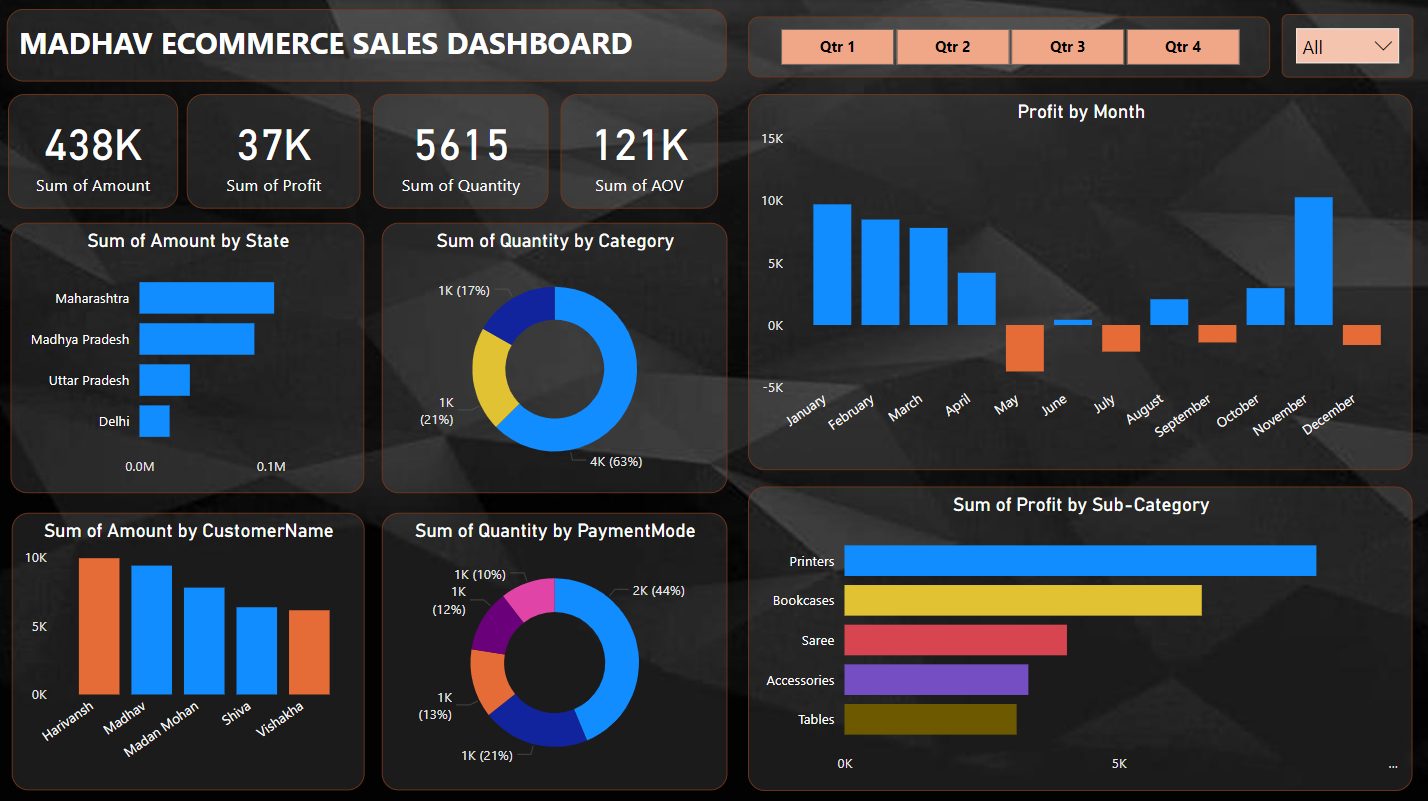

Layout of this report page (visuals, bound fields, positions):
{"tool":"powerbi","page":{"name":"Page 1","canvas":[1280,720],"ordinal":0},"visuals":[{"type":"textbox","box":[7.8,8.9,643.2,64.8],"z":0},{"type":"columnChart","title":"Profit by Month","fields":{"Category":["Orders.Order Date.Variation.Date Hierarchy.Month"],"Y":["Details.Profit"]},"box":[670.4,85.2,593.8,335.8],"z":1000},{"type":"barChart","fields":{"Category":["Details.Sub-Category"],"Y":["Details.Profit"]},"box":[670.4,435.8,593.8,271.6],"z":2000},{"type":"donutChart","fields":{"Category":["Details.Category"],"Y":["Details.Quantity"]},"box":[343.2,200,308.6,242],"z":3000},{"type":"donutChart","fields":{"Y":["Details.Quantity"],"Category":["Details.PaymentMode"]},"box":[342.8,457.8,308.2,249],"z":4000},{"type":"card","fields":{"Values":["Details.Amount"]},"box":[8.6,85.2,151.9,102.5],"z":5000},{"type":"card","fields":{"Values":["Details.Profit"]},"box":[173.1,84.9,156.3,102.7],"z":6000},{"type":"card","fields":{"Values":["Details.Quantity"]},"box":[337.2,84.9,156.3,102.7],"z":7000},{"type":"card","fields":{"Values":["Details.AOV"]},"box":[505.8,84.9,140.7,102.7],"z":8000},{"type":"barChart","fields":{"Category":["Orders.State"],"Y":["Details.Amount"]},"box":[11.1,200,316,242],"z":9000},{"type":"columnChart","fields":{"Category":["Orders.CustomerName"],"Y":["Details.Amount"]},"box":[12.3,459.3,314.8,248.1],"z":10000},{"type":"slicer","fields":{"Values":["Orders.Order Date.Variation.Date Hierarchy.Quarter"]},"box":[670.4,16,466.7,54.3],"z":11000},{"type":"slicer","fields":{"Values":["Orders.State"]},"box":[1146.9,13.6,117.3,56.8],"z":12000}]}

Visuals, with their boxes in screenshot pixels (x1, y1, x2, y2), scaled from the page's 1280x720 canvas onto the 1428x801 screenshot:
textbox: <region>9, 10, 726, 82</region>
"Profit by Month" columnChart: <region>748, 95, 1410, 468</region>
barChart - Details.Sub-Category x Details.Profit: <region>748, 485, 1410, 787</region>
donutChart - Details.Category x Details.Quantity: <region>383, 222, 727, 492</region>
donutChart - Details.Quantity x Details.PaymentMode: <region>382, 509, 726, 786</region>
card - Details.Amount: <region>10, 95, 179, 209</region>
card - Details.Profit: <region>193, 94, 367, 209</region>
card - Details.Quantity: <region>376, 94, 551, 209</region>
card - Details.AOV: <region>564, 94, 721, 209</region>
barChart - Orders.State x Details.Amount: <region>12, 222, 365, 492</region>
columnChart - Orders.CustomerName x Details.Amount: <region>14, 511, 365, 787</region>
slicer - Orders.Order Date.Variation.Date Hierarchy.Quarter: <region>748, 18, 1269, 78</region>
slicer - Orders.State: <region>1280, 15, 1410, 78</region>
